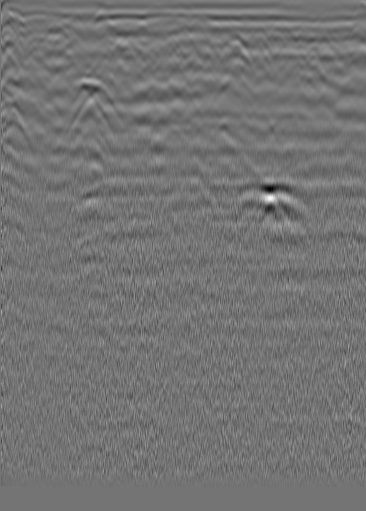가스: (76, 140, 112, 178)
상수: (311, 37, 331, 57)
오수: (1, 38, 21, 58)
우수: (171, 25, 191, 45)
